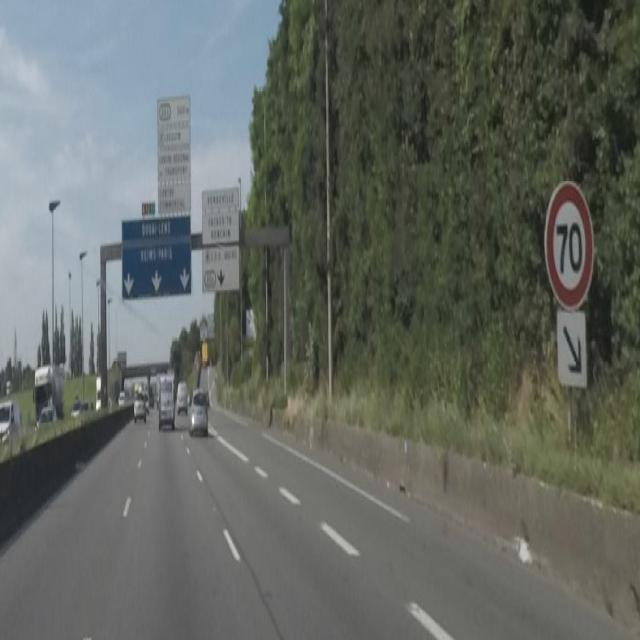speed_70: (545, 181, 593, 309)
